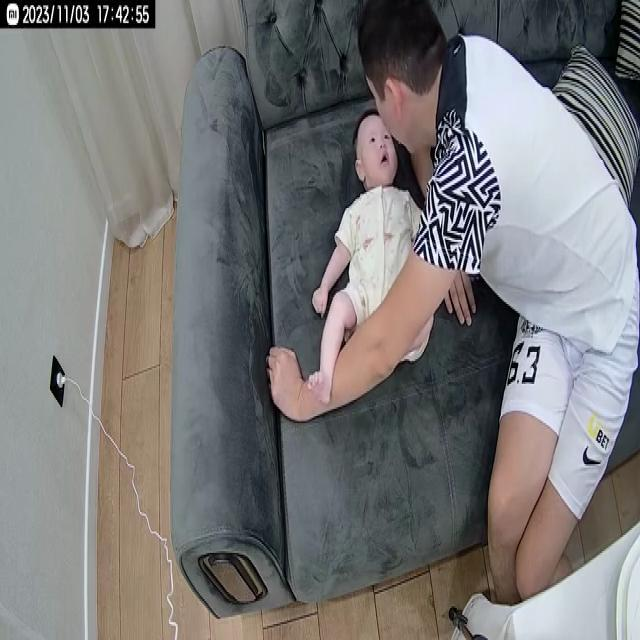baby: (304, 107, 438, 408)
